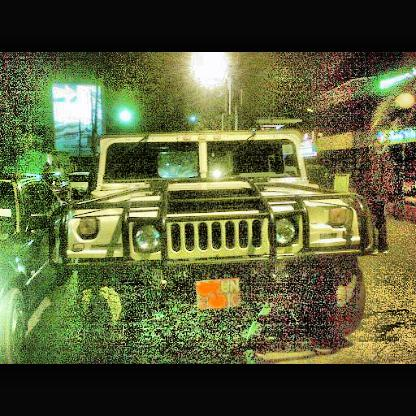AM General Hummer SUV 2000: (50, 133, 372, 358)
